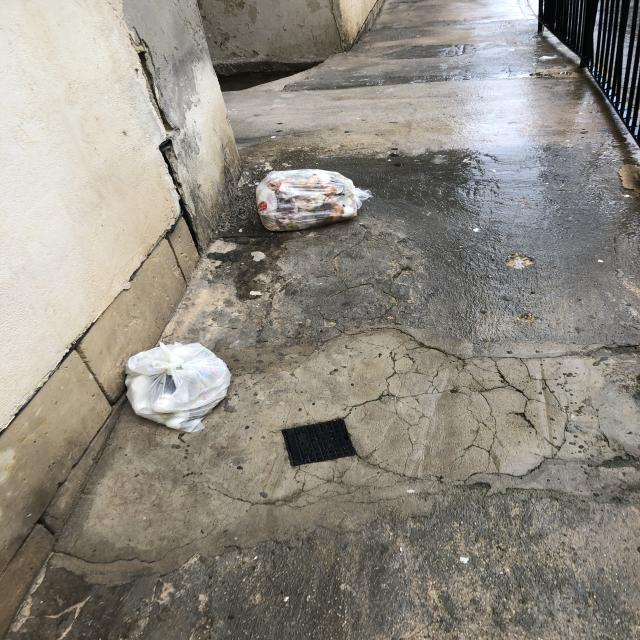Organic Waste -White Bag-: (111, 339, 246, 436), (249, 159, 378, 232)
